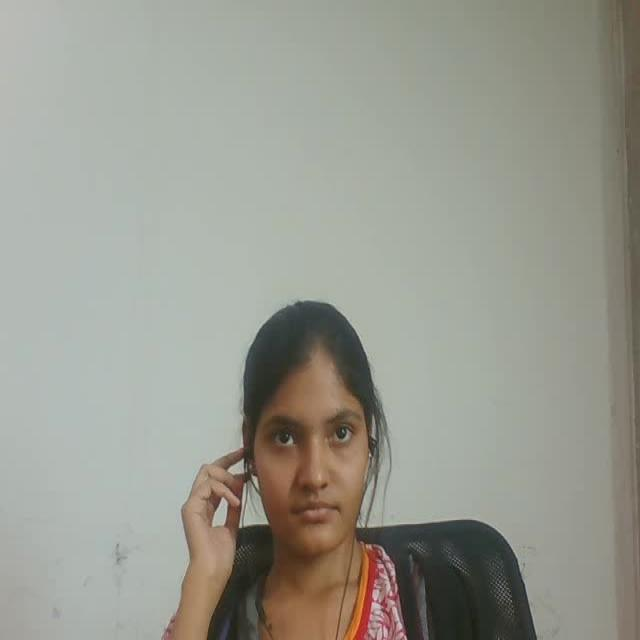Engaged: (189, 284, 427, 579)
